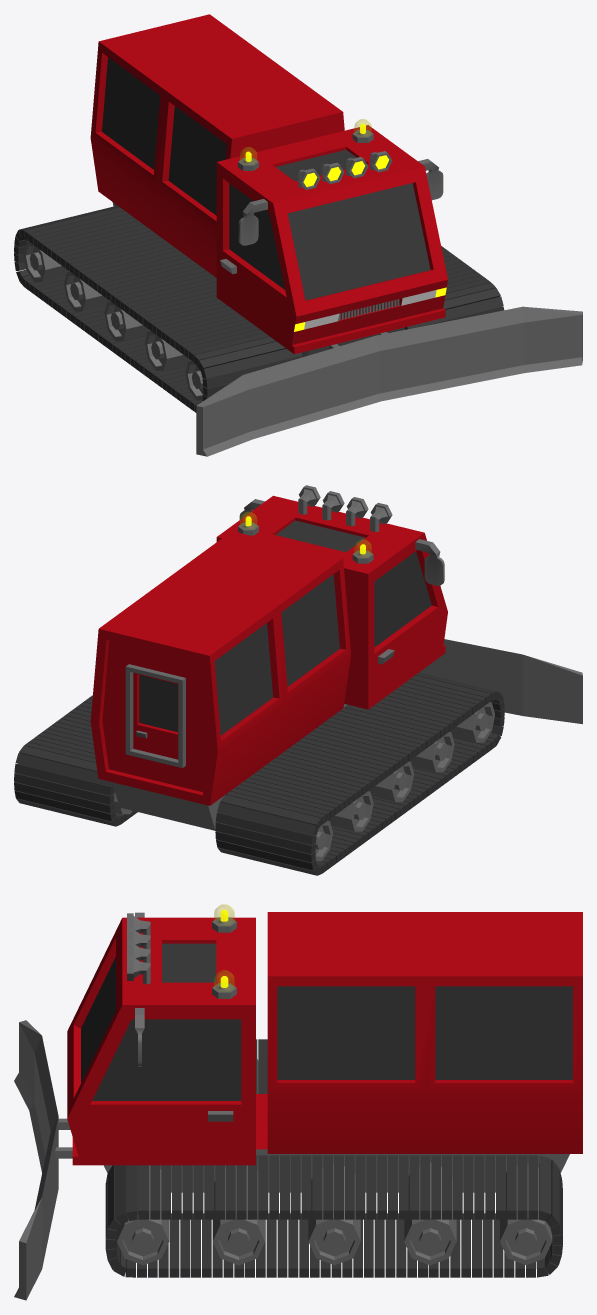
The model's file is Snowplow.fbx.
3 views of the same model, one above another, from view 1: azimuth 30°, elevation 25°; view 2: azimuth 150°, elevation 25°; view 3: azimuth 270°, elevation 25° (orthographic). The views are drawn at different scales.
Parts seen in each view (by area): view 1: Base, Scoop, TracksR, WheelsR, TracksL, Lights; view 2: Base, TracksR, TracksL, Scoop, WheelsR, Lights; view 3: Base, TracksL, WheelsL, Scoop, Lights, TracksR.
Part boxes in pixels (left/top/right/bottom): Base: left=90, top=14, right=447, bottom=356; Scoop: left=196, top=306, right=582, bottom=456; TracksR: left=14, top=206, right=302, bottom=412; WheelsR: left=23, top=241, right=203, bottom=400; TracksL: left=404, top=246, right=504, bottom=329; Lights: left=238, top=119, right=373, bottom=170; Base: left=90, top=485, right=447, bottom=830; TracksR: left=215, top=672, right=504, bottom=875; TracksL: left=14, top=695, right=137, bottom=826; Scoop: left=419, top=639, right=582, bottom=724; WheelsR: left=215, top=702, right=494, bottom=861; Lights: left=238, top=512, right=373, bottom=563; Base: left=55, top=912, right=582, bottom=1192; TracksL: left=105, top=1155, right=562, bottom=1277; WheelsL: left=117, top=1162, right=552, bottom=1265; Scoop: left=14, top=1020, right=58, bottom=1300; Lights: left=212, top=904, right=236, bottom=998; TracksR: left=256, top=1039, right=267, bottom=1093.
Size of the model in its own units: 806 by 429 by 869.
